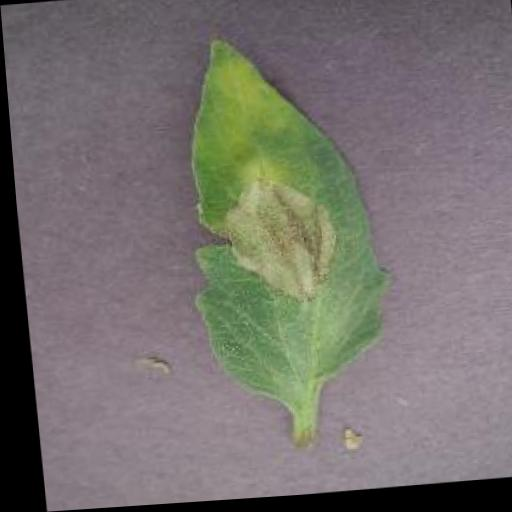Late Blight: (165, 24, 399, 407)
